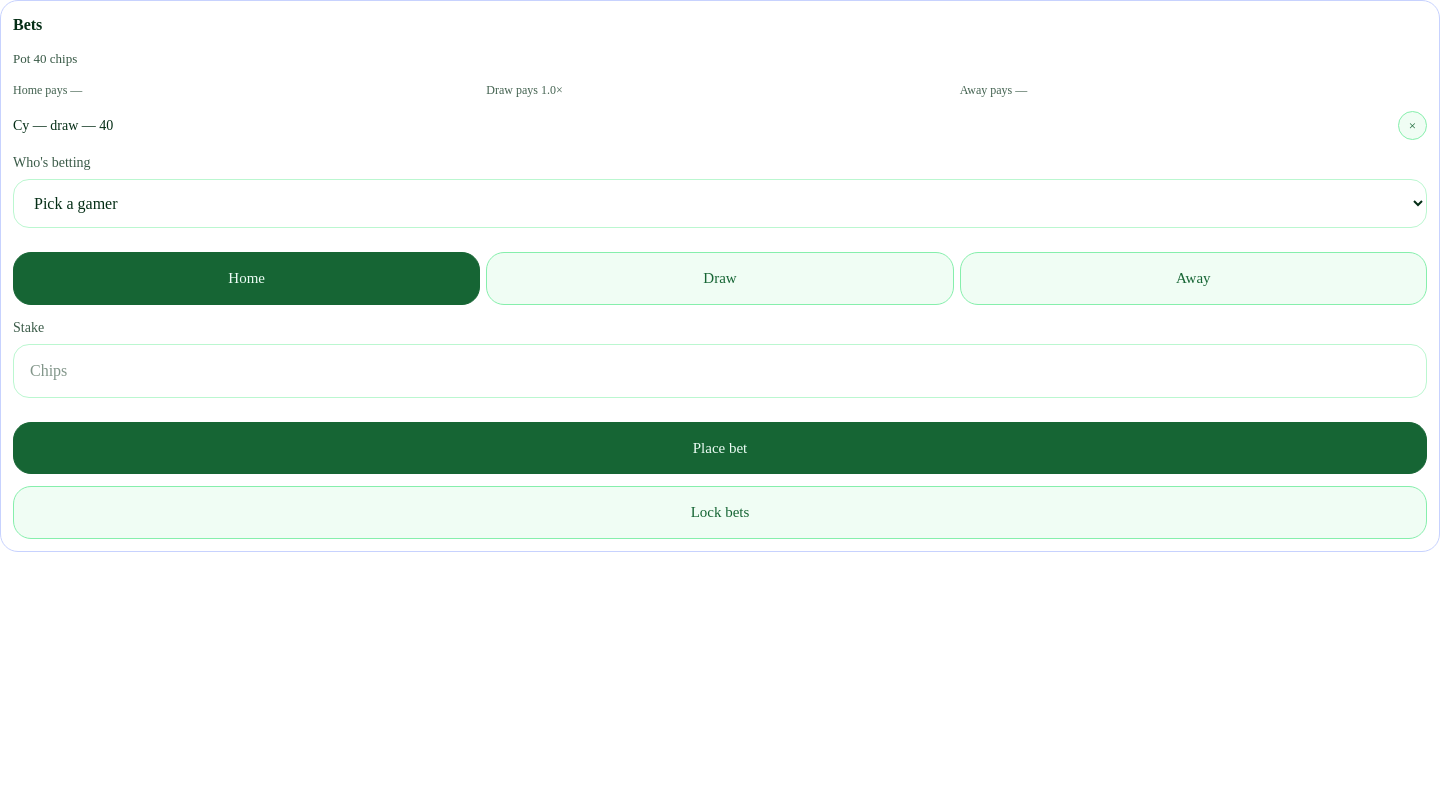
Test: BetsPanel › separates what is held from what is already at risk
The image size is (1440, 810).
Select "Cy" in the dropdown labelled "Who's betting" at (720, 204), box [13, 179, 1427, 228]
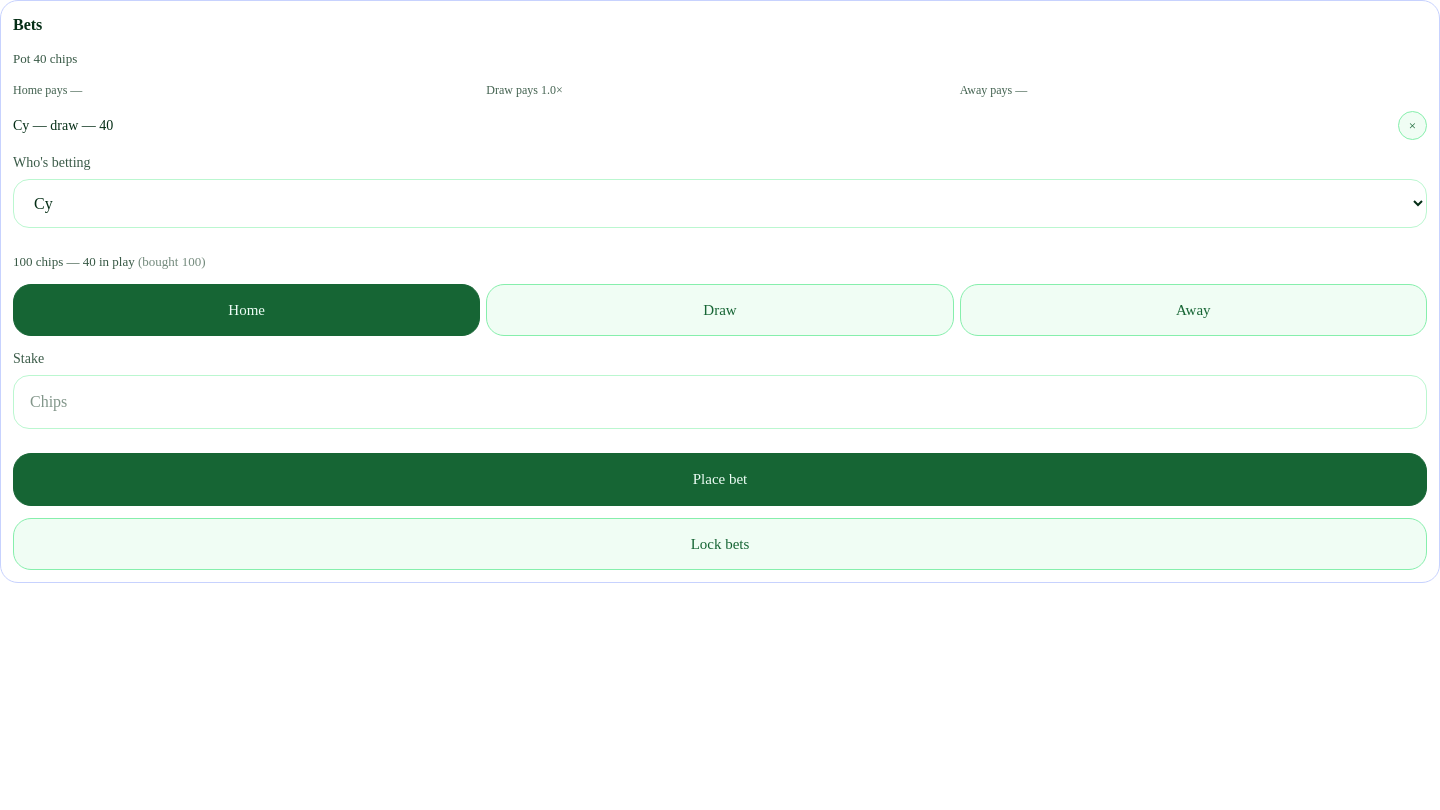
Expected: the text "100 chips — 40 in play (bought 100)" is shown, [13, 254, 206, 269]
